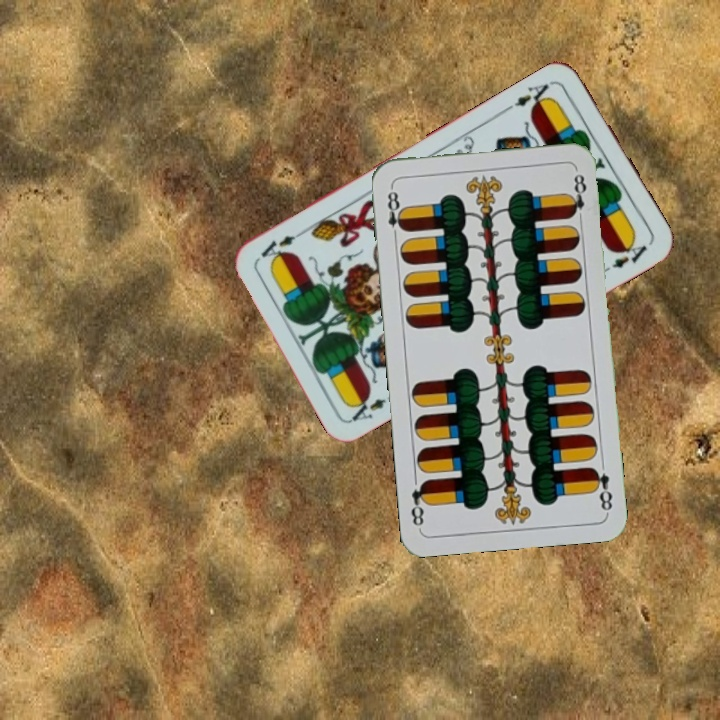E8: (383, 183, 408, 242), (588, 463, 615, 515)
EA: (346, 387, 401, 425), (502, 77, 556, 114)
